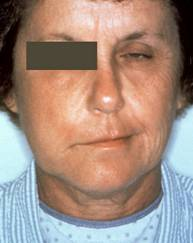stroke: (27, 22, 178, 194)
